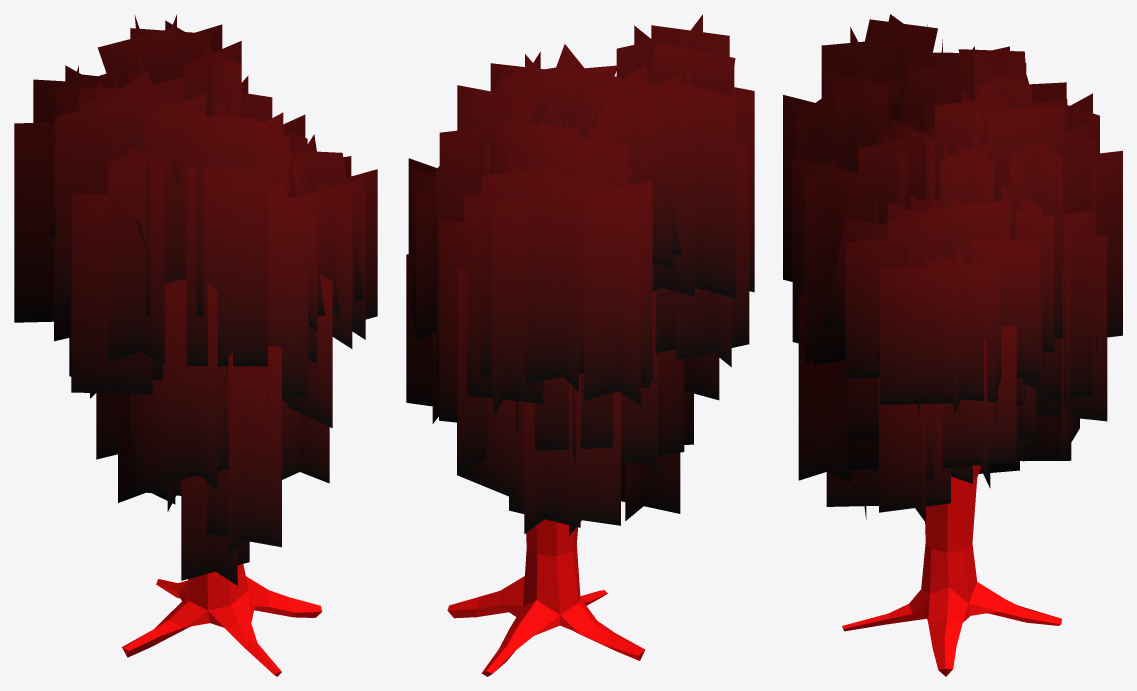
Rendered from TrunkandLeaves.fbx.
3 views of the same model, side by side, from view 1: azimuth 30°, elevation 25°; view 2: azimuth 150°, elevation 25°; view 3: azimuth 270°, elevation 25° (orthographic). The views are drawn at different scales.
Parts seen in each view (by area): view 1: SM_Tree_Willow_Medium_01; view 2: SM_Tree_Willow_Medium_01; view 3: SM_Tree_Willow_Medium_01.
Boxes of the visible parts, x1,y1,x2,y2 form: SM_Tree_Willow_Medium_01: (14,14,377,676); SM_Tree_Willow_Medium_01: (406,14,754,676); SM_Tree_Willow_Medium_01: (783,14,1122,676).
Bounding box in the file's own units: 336 × 617 × 336.
